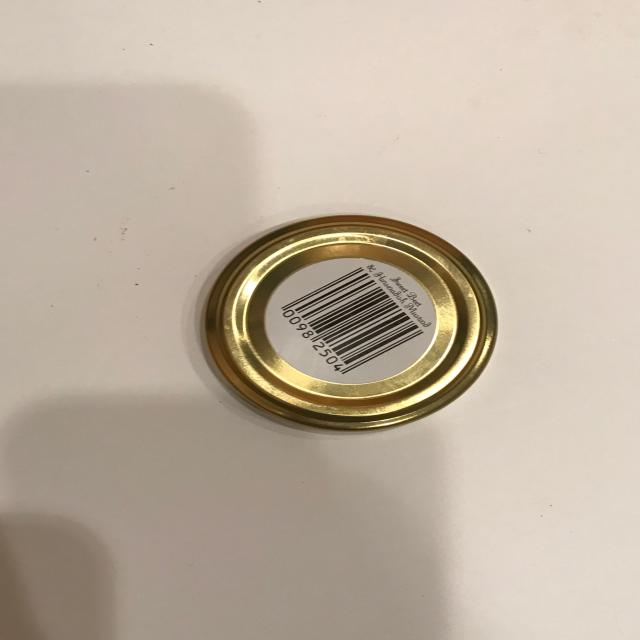metal: (202, 213, 498, 431)
